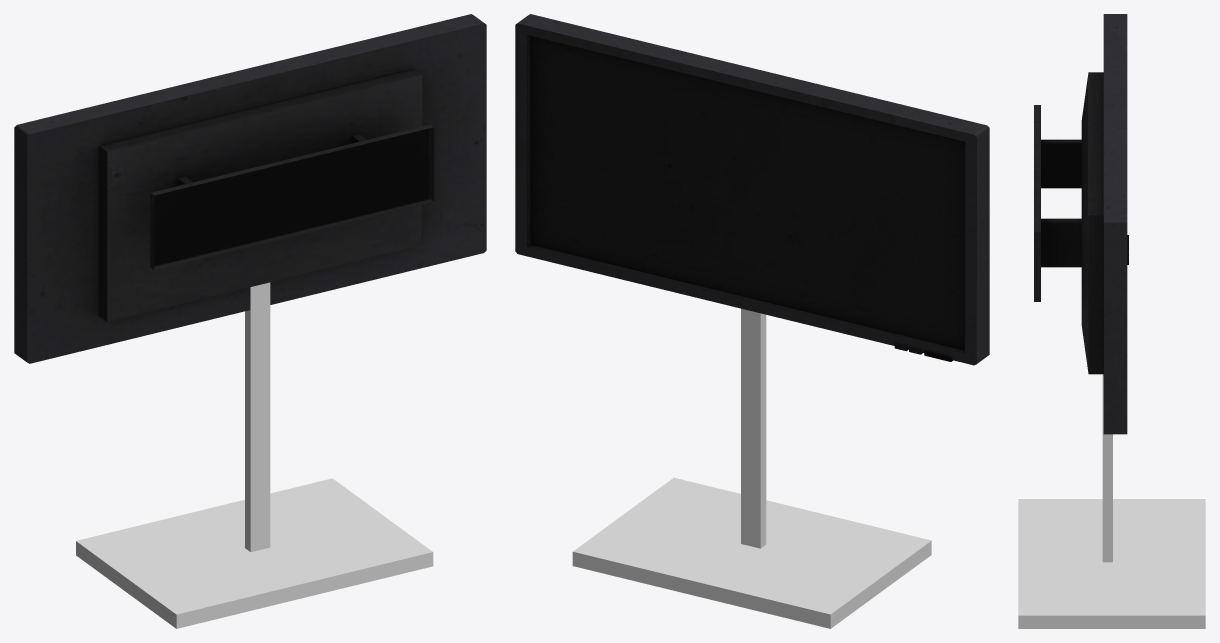
The picture shows the model from 3 angles, left to right: view 1: azimuth 30°, elevation 25°; view 2: azimuth 150°, elevation 25°; view 3: azimuth 270°, elevation 25°; orthographic projection. The views are drawn at different scales.
Visible parts, largest first — view 1: Object_2, Cube.001, Cube; view 2: Object_2, Cube.001, Cube; view 3: Cube.001, Object_2, Cube.
Boxes of the visible parts, box(x1,y1,x2,y2) form: Object_2: box(14, 14, 486, 363); Cube.001: box(76, 478, 433, 628); Cube: box(245, 282, 270, 552); Object_2: box(515, 14, 989, 365); Cube.001: box(572, 477, 931, 628); Cube: box(741, 308, 766, 548); Cube.001: box(1018, 499, 1205, 628); Object_2: box(1034, 14, 1128, 434); Cube: box(1102, 374, 1112, 562).
Size of the model in its own units: 4.69 by 4.8 by 1.78.
1 material, 1 textured.
